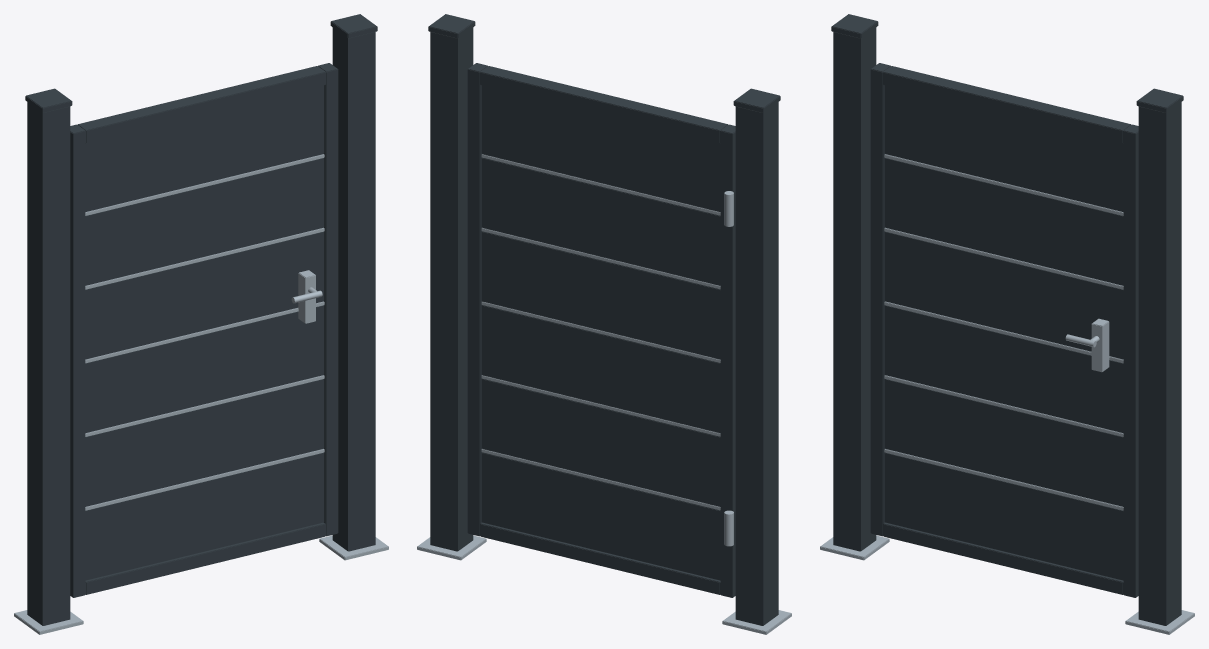
File: 05-pesacka.glb
The picture shows the model from 3 angles, left to right: view 1: azimuth 30°, elevation 25°; view 2: azimuth 150°, elevation 25°; view 3: azimuth 330°, elevation 25°; orthographic projection.
Visible parts, largest first — view 1: Stub_levi.016, Stub_desni.016, Ispuna_antracit_panel, Ispuna_antracit_panel.004, Ispuna_antracit_panel.001, Ispuna_antracit_panel.002, Ispuna_antracit_panel.005, Ispuna_antracit_panel.003, Ram_bocni.030, Ram_bocni.031, Ram_gornji.015, Ram_donji.015 (+10 smaller); view 2: Stub_levi.016, Stub_desni.016, Ispuna_antracit_panel, Ispuna_antracit_panel.003, Ispuna_antracit_panel.004, Ispuna_antracit_panel.002, Ispuna_antracit_panel.001, Ispuna_antracit_panel.005, Ram_bocni.031, Ram_bocni.030, Ram_gornji.015, Ram_donji.015 (+9 smaller); view 3: Stub_desni.016, Stub_levi.016, Ispuna_antracit_panel, Ispuna_antracit_panel.004, Ispuna_antracit_panel.001, Ispuna_antracit_panel.002, Ispuna_antracit_panel.005, Ispuna_antracit_panel.003, Ram_bocni.031, Ram_bocni.030, Ram_gornji.015, Ram_donji.015 (+10 smaller).
Boxes of the visible parts, bbox=[...] form: Stub_levi.016: bbox=[27, 102, 70, 625]; Stub_desni.016: bbox=[332, 27, 375, 551]; Ispuna_antracit_panel: bbox=[85, 452, 324, 580]; Ispuna_antracit_panel.004: bbox=[85, 158, 324, 285]; Ispuna_antracit_panel.001: bbox=[85, 379, 324, 506]; Ispuna_antracit_panel.002: bbox=[85, 305, 324, 433]; Ispuna_antracit_panel.005: bbox=[85, 85, 324, 211]; Ispuna_antracit_panel.003: bbox=[85, 231, 324, 359]; Ram_bocni.030: bbox=[70, 124, 85, 597]; Ram_bocni.031: bbox=[318, 63, 338, 536]; Ram_gornji.015: bbox=[77, 66, 325, 143]; Ram_donji.015: bbox=[85, 522, 325, 594]; Stub_levi.016: bbox=[735, 102, 778, 625]; Stub_desni.016: bbox=[430, 27, 473, 551]; Ispuna_antracit_panel: bbox=[481, 452, 720, 580]; Ispuna_antracit_panel.003: bbox=[481, 231, 720, 359]; Ispuna_antracit_panel.004: bbox=[481, 157, 720, 285]; Ispuna_antracit_panel.002: bbox=[481, 305, 720, 433]; Ispuna_antracit_panel.001: bbox=[481, 378, 720, 506]; Ispuna_antracit_panel.005: bbox=[481, 85, 720, 211]; Ram_bocni.031: bbox=[467, 63, 487, 536]; Ram_bocni.030: bbox=[720, 124, 735, 597]; Ram_gornji.015: bbox=[480, 66, 728, 143]; Ram_donji.015: bbox=[480, 522, 720, 594]; Stub_desni.016: bbox=[1138, 102, 1181, 625]; Stub_levi.016: bbox=[833, 27, 876, 551]; Ispuna_antracit_panel: bbox=[884, 452, 1123, 580]; Ispuna_antracit_panel.004: bbox=[884, 158, 1123, 285]; Ispuna_antracit_panel.001: bbox=[884, 379, 1123, 506]; Ispuna_antracit_panel.002: bbox=[884, 305, 1123, 433]; Ispuna_antracit_panel.005: bbox=[884, 85, 1123, 211]; Ispuna_antracit_panel.003: bbox=[884, 231, 1123, 359]; Ram_bocni.031: bbox=[1123, 124, 1138, 597]; Ram_bocni.030: bbox=[870, 63, 890, 536]; Ram_gornji.015: bbox=[883, 66, 1131, 143]; Ram_donji.015: bbox=[883, 522, 1123, 594].
Bounding box in the file's own units: 1.26 × 1.8 × 0.19.
